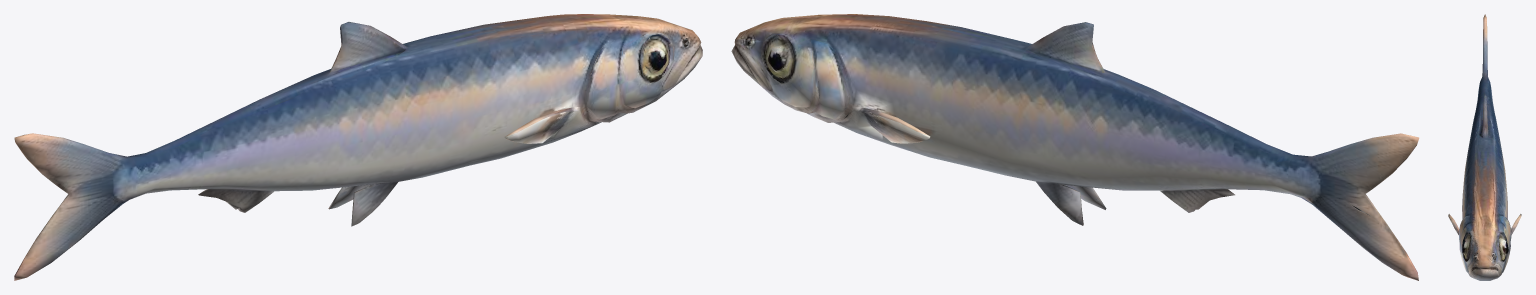
Rendered from fish-silver.glb.
The picture shows the model from 3 angles, left to right: view 1: azimuth 30°, elevation 25°; view 2: azimuth 150°, elevation 25°; view 3: azimuth 270°, elevation 25°; orthographic projection. The views are drawn at different scales.
Parts seen in each view (by area): view 1: node_0.001; view 2: node_0.001; view 3: node_0.001.
Boxes of the visible parts, left/top/right/bottom form: node_0.001: left=14, top=14, right=702, bottom=280; node_0.001: left=731, top=14, right=1419, bottom=280; node_0.001: left=1448, top=14, right=1521, bottom=280.
Size of the model in its own units: 1.3 by 0.3512 by 0.1915.
Materials: 1 (1 with a texture image).
